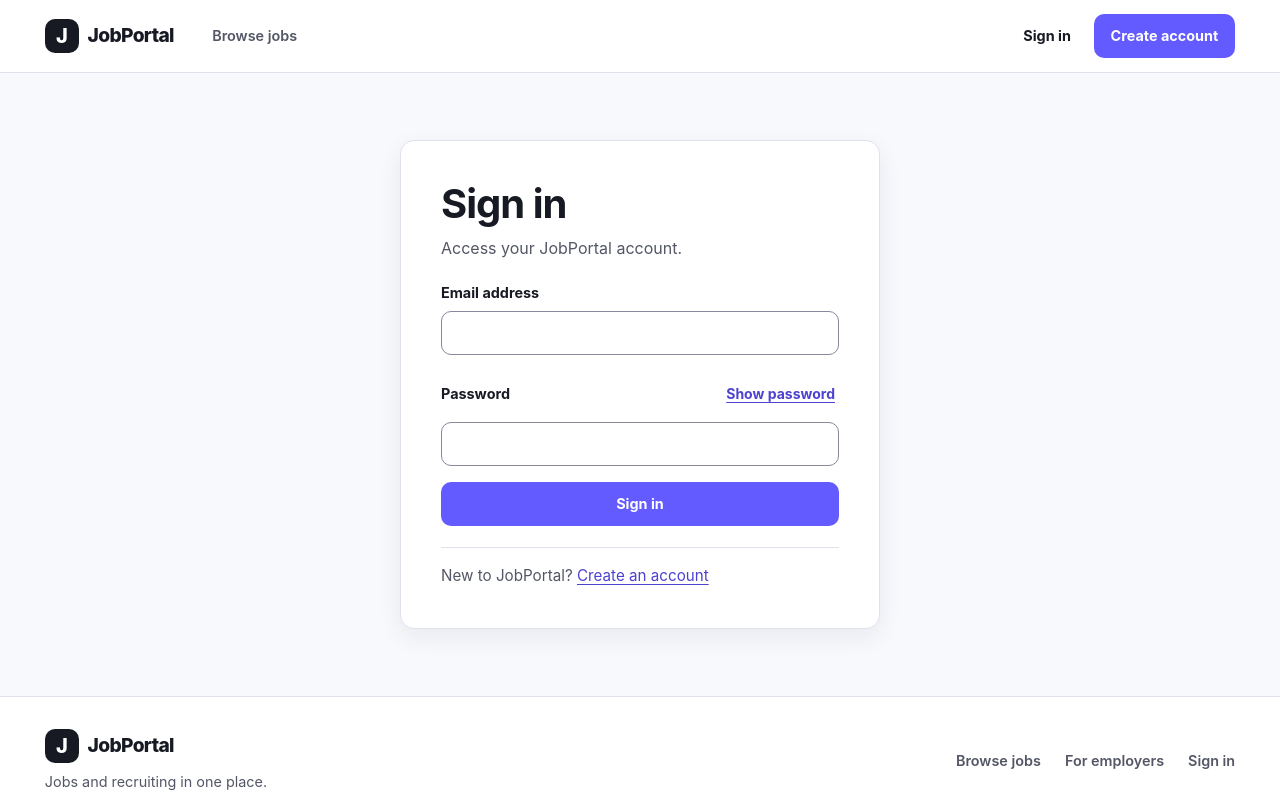
Test: password visibility preserves the entered value
The image size is (1280, 800).
In the password field labelled "Password": x=640, y=444 x1=441 y1=422 x2=839 y2=466, type "test-password"
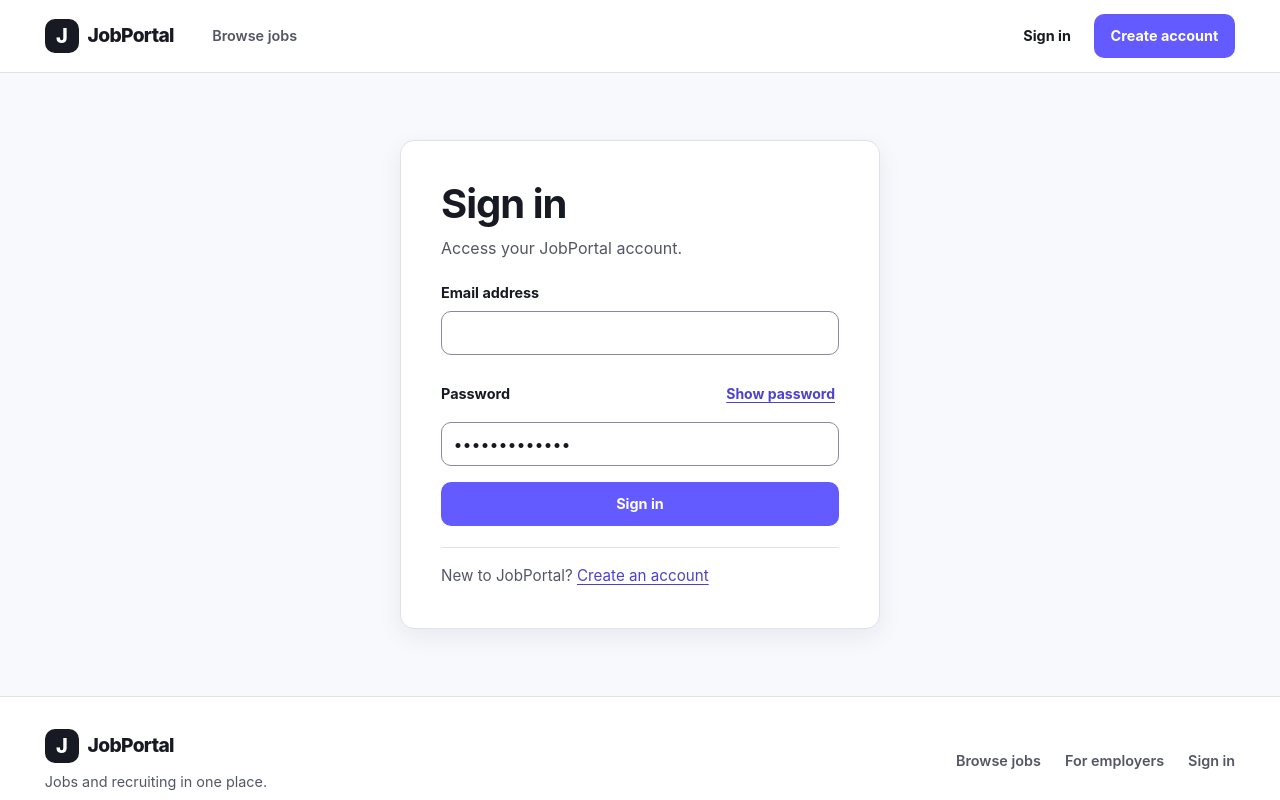
Click the button "Show password": x=781, y=393 x1=722 y1=371 x2=839 y2=415
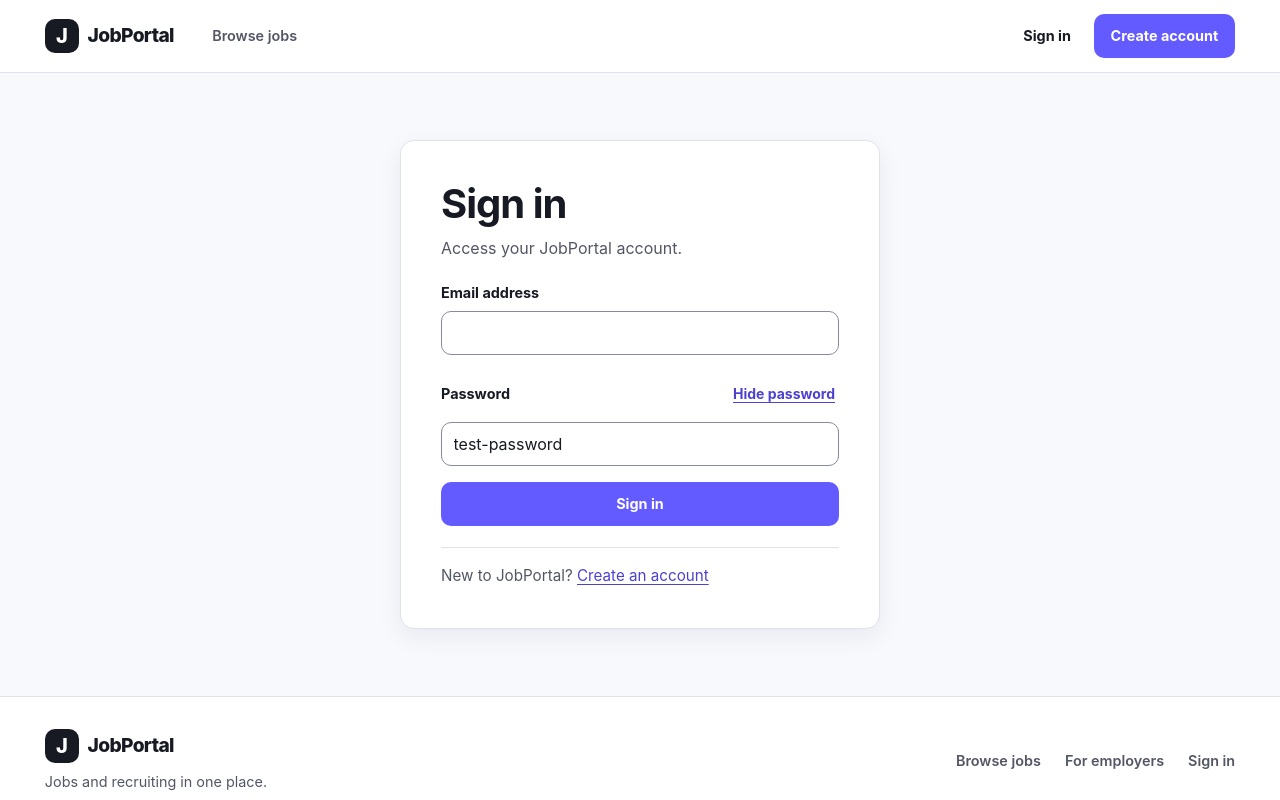
expect the field labelled "Password" shows its text: met, box x1=441 y1=422 x2=839 y2=466
Click the button "Hide password": x=784, y=393 x1=729 y1=371 x2=839 y2=415
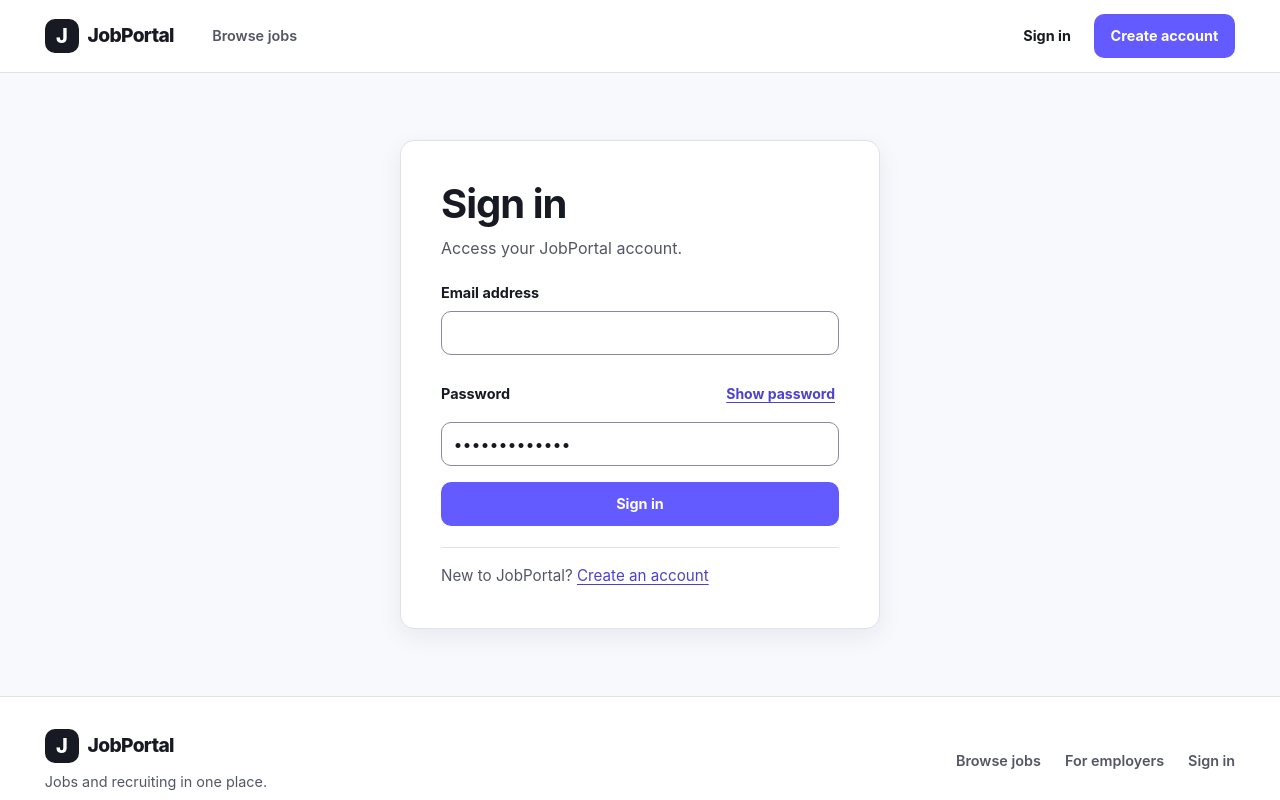
expect the password field labelled "Password" hides its text: met, box x1=441 y1=422 x2=839 y2=466
